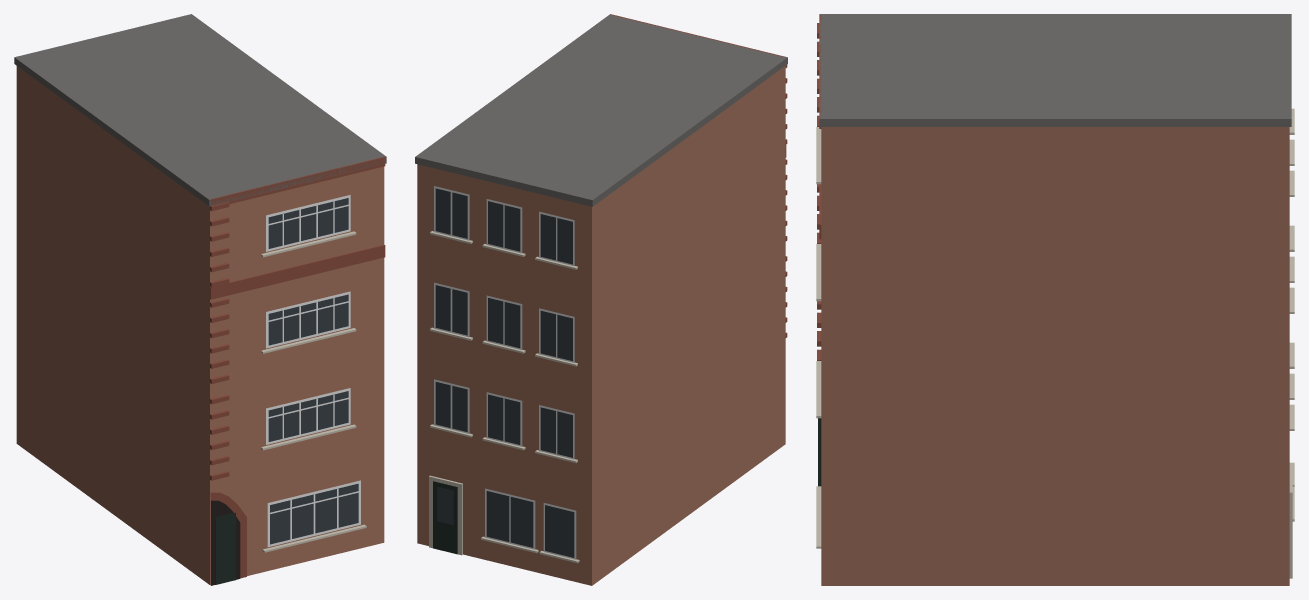
File: we-jm-vespucci__red__4__flat__long__solid.glb
The picture shows the model from 3 angles, left to right: view 1: azimuth 30°, elevation 25°; view 2: azimuth 150°, elevation 25°; view 3: azimuth 270°, elevation 25°; orthographic projection. The views are drawn at different scales.
Visible parts, largest first — view 1: we-jm-vespucci__red__4__flat__long__solid; view 2: we-jm-vespucci__red__4__flat__long__solid; view 3: we-jm-vespucci__red__4__flat__long__solid.
Part boxes in pixels (<box>): we-jm-vespucci__red__4__flat__long__solid: <box>14,14,386,585</box>; we-jm-vespucci__red__4__flat__long__solid: <box>415,14,787,585</box>; we-jm-vespucci__red__4__flat__long__solid: <box>816,14,1294,585</box>.
Size of the model in its own units: 6.08 by 12.65 by 11.72.
